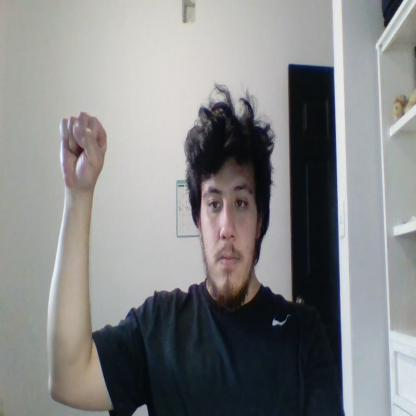S: (60, 111, 107, 189)
